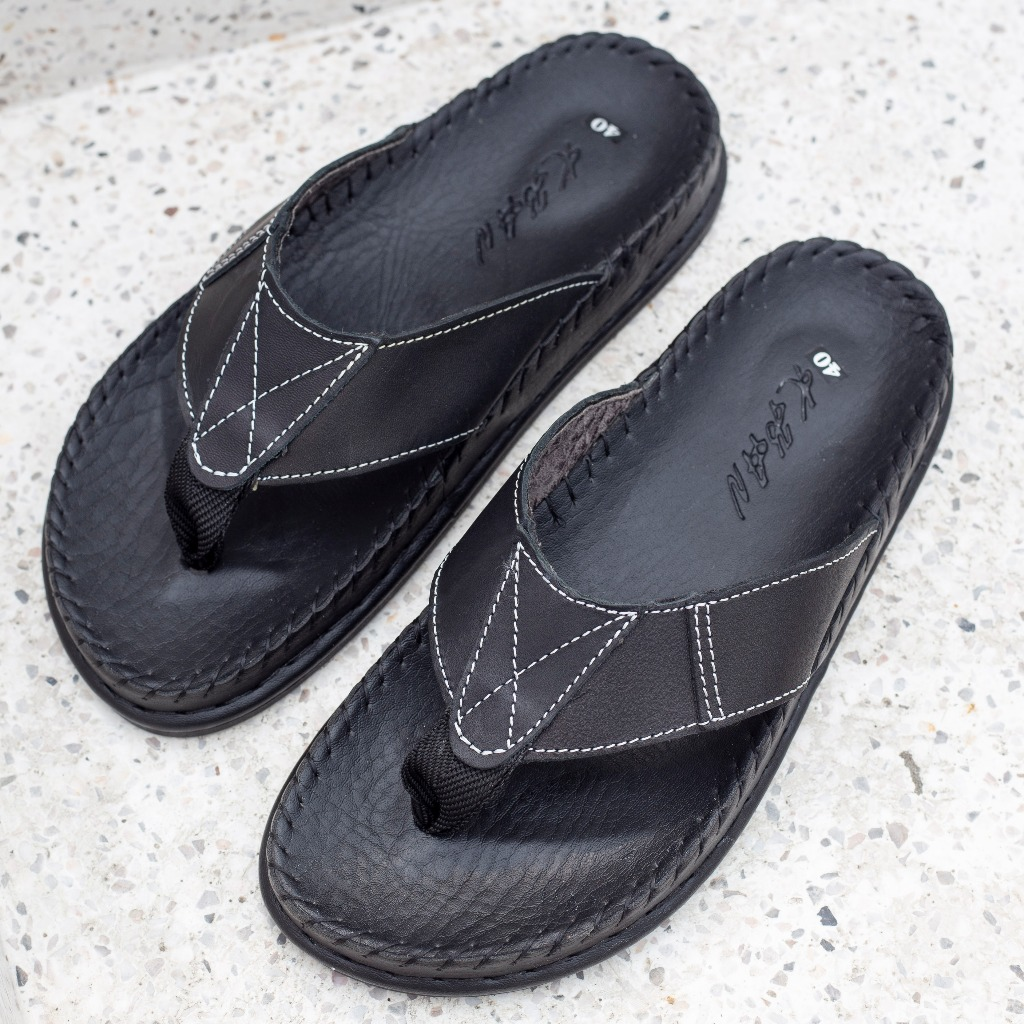flip_flops: (256, 237, 954, 996), (37, 32, 733, 736)
